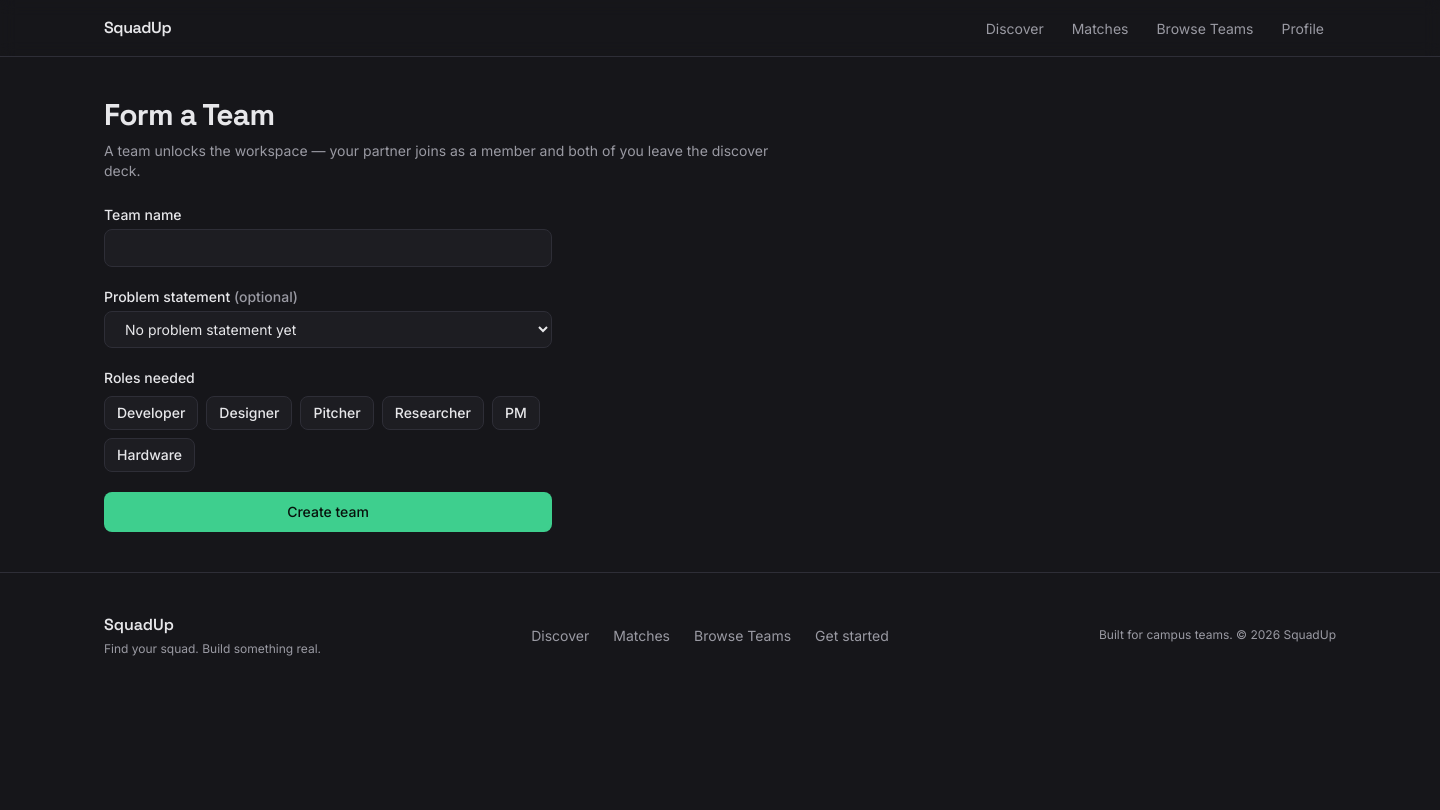
Test: Form team page › surfaces the single-team guard error
This screenshot has width=1440, height=810.
In the field labelled "Team name": (328, 248) [104,229,552,267], type "Second Team"
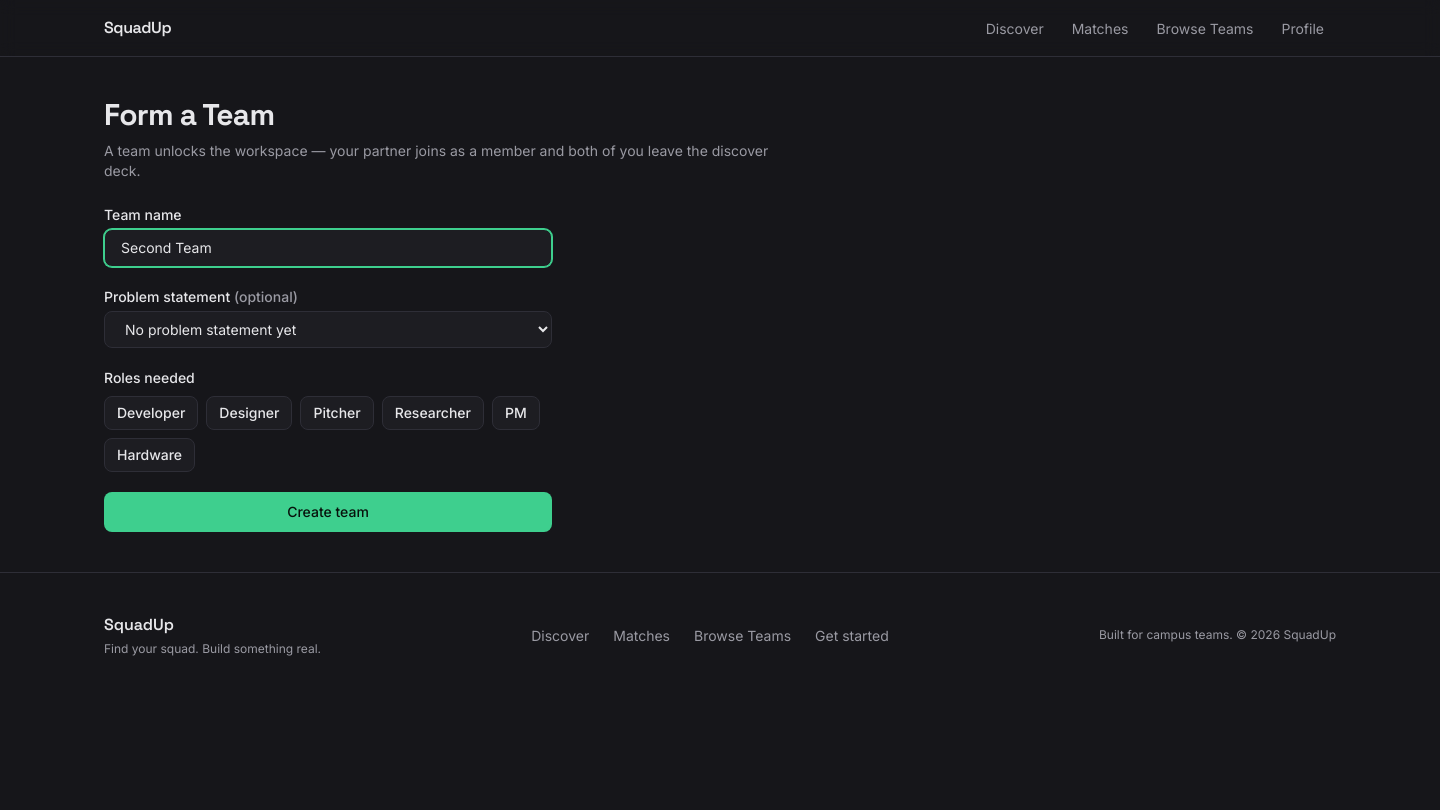
Click the button "Developer": (151, 413) [104,396,198,430]
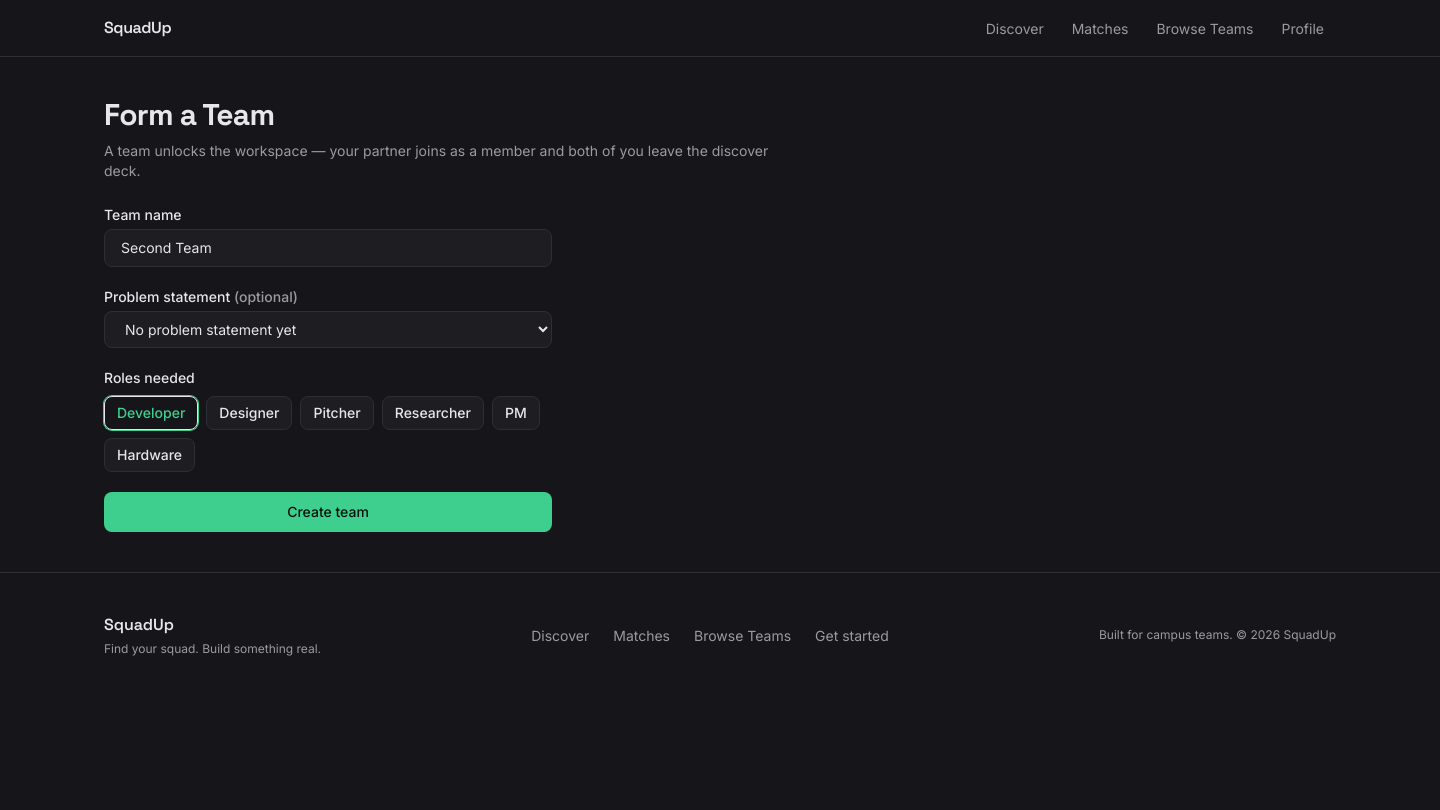
Click the button "Create team": (328, 512) [104,492,552,532]
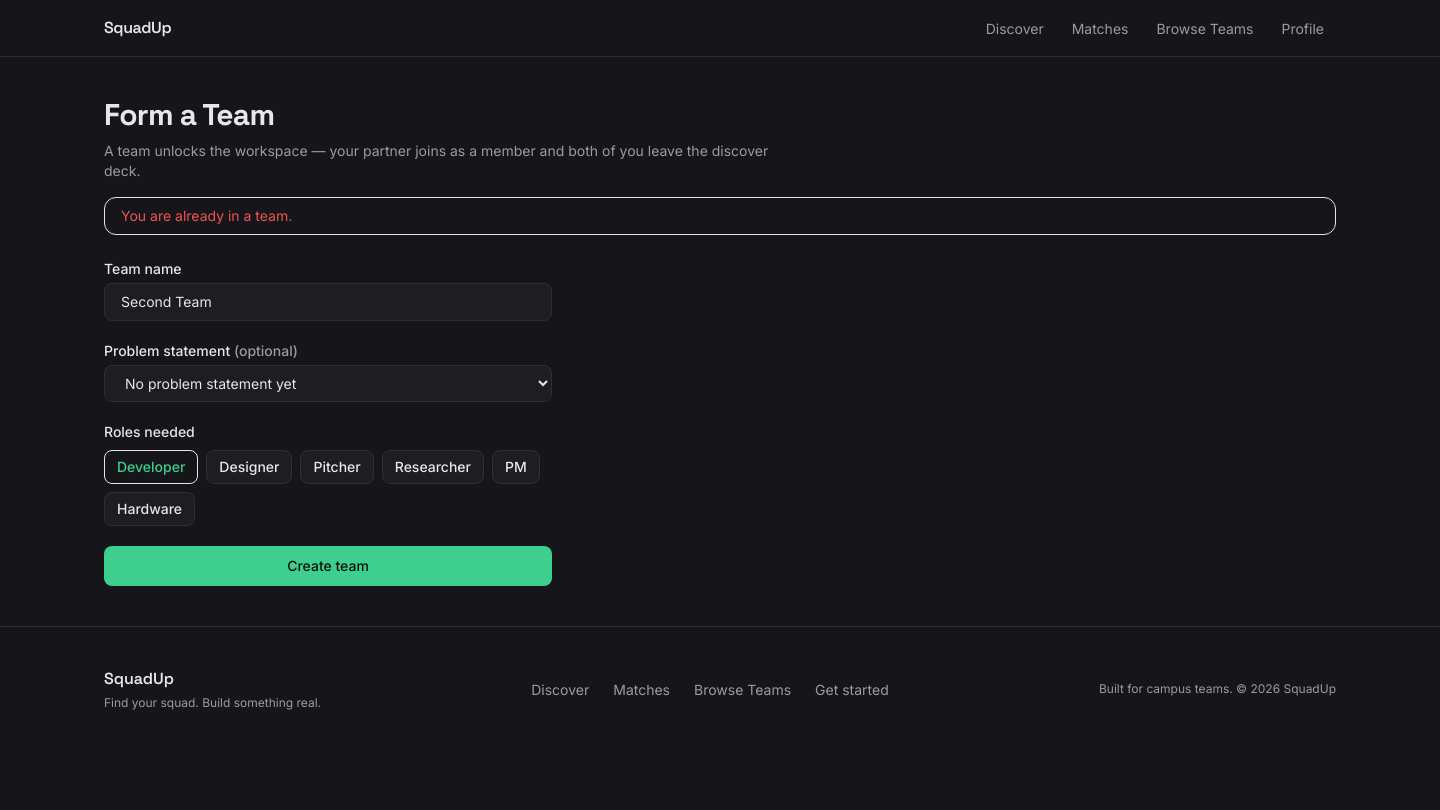
expect the message shows "already in a team": met, box [121,207,292,224]
